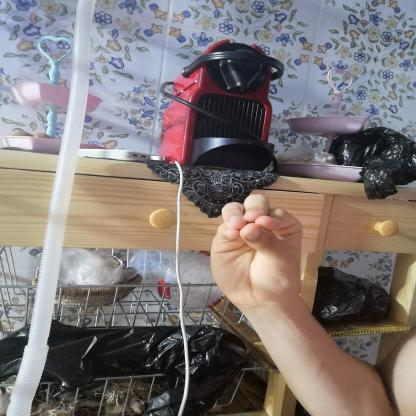HA: (195, 182, 316, 324)
